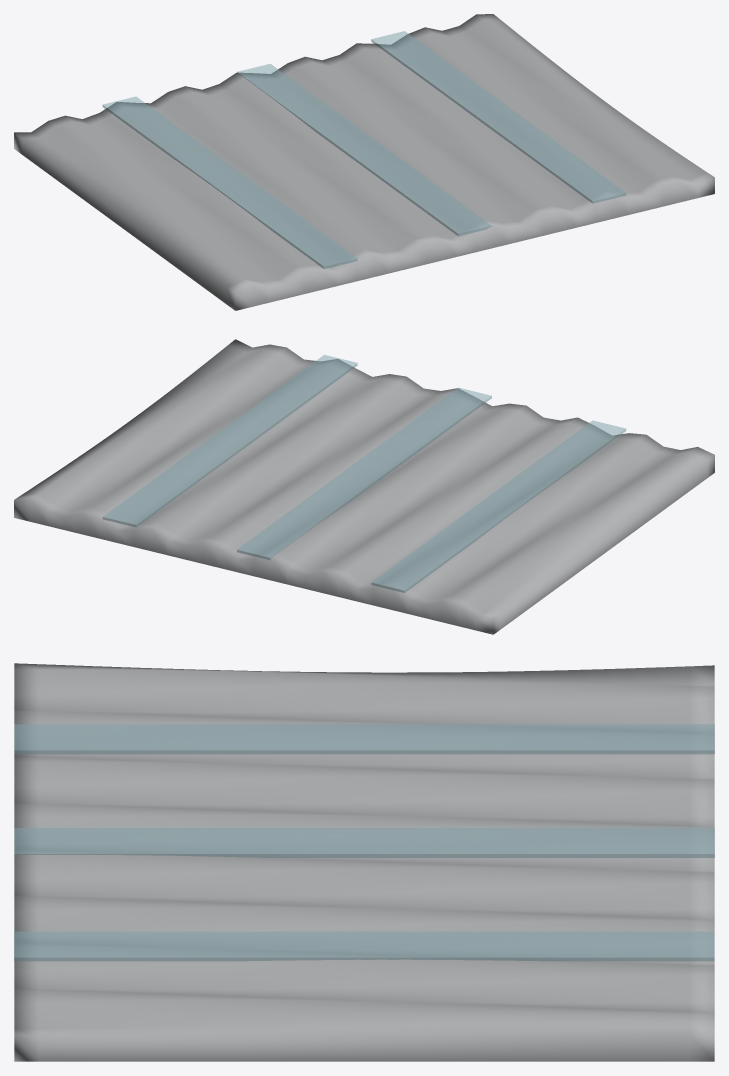
The model's file is alpine-and-arctic-biomes-braided-outwash-ed4cac26__21057.glb.
The picture shows the model from 3 angles, top to bottom: view 1: azimuth 30°, elevation 25°; view 2: azimuth 150°, elevation 25°; view 3: azimuth 270°, elevation 25°; orthographic projection. The views are drawn at different scales.
Visible parts, largest first — view 1: braided-outwash; view 2: braided-outwash; view 3: braided-outwash.
Boxes of the visible parts, x1,y1,x2,y2 form: braided-outwash: [14, 14, 714, 310]; braided-outwash: [14, 339, 714, 634]; braided-outwash: [14, 663, 714, 1061].
Size of the model in its own units: 5 by 0.2248 by 4.
